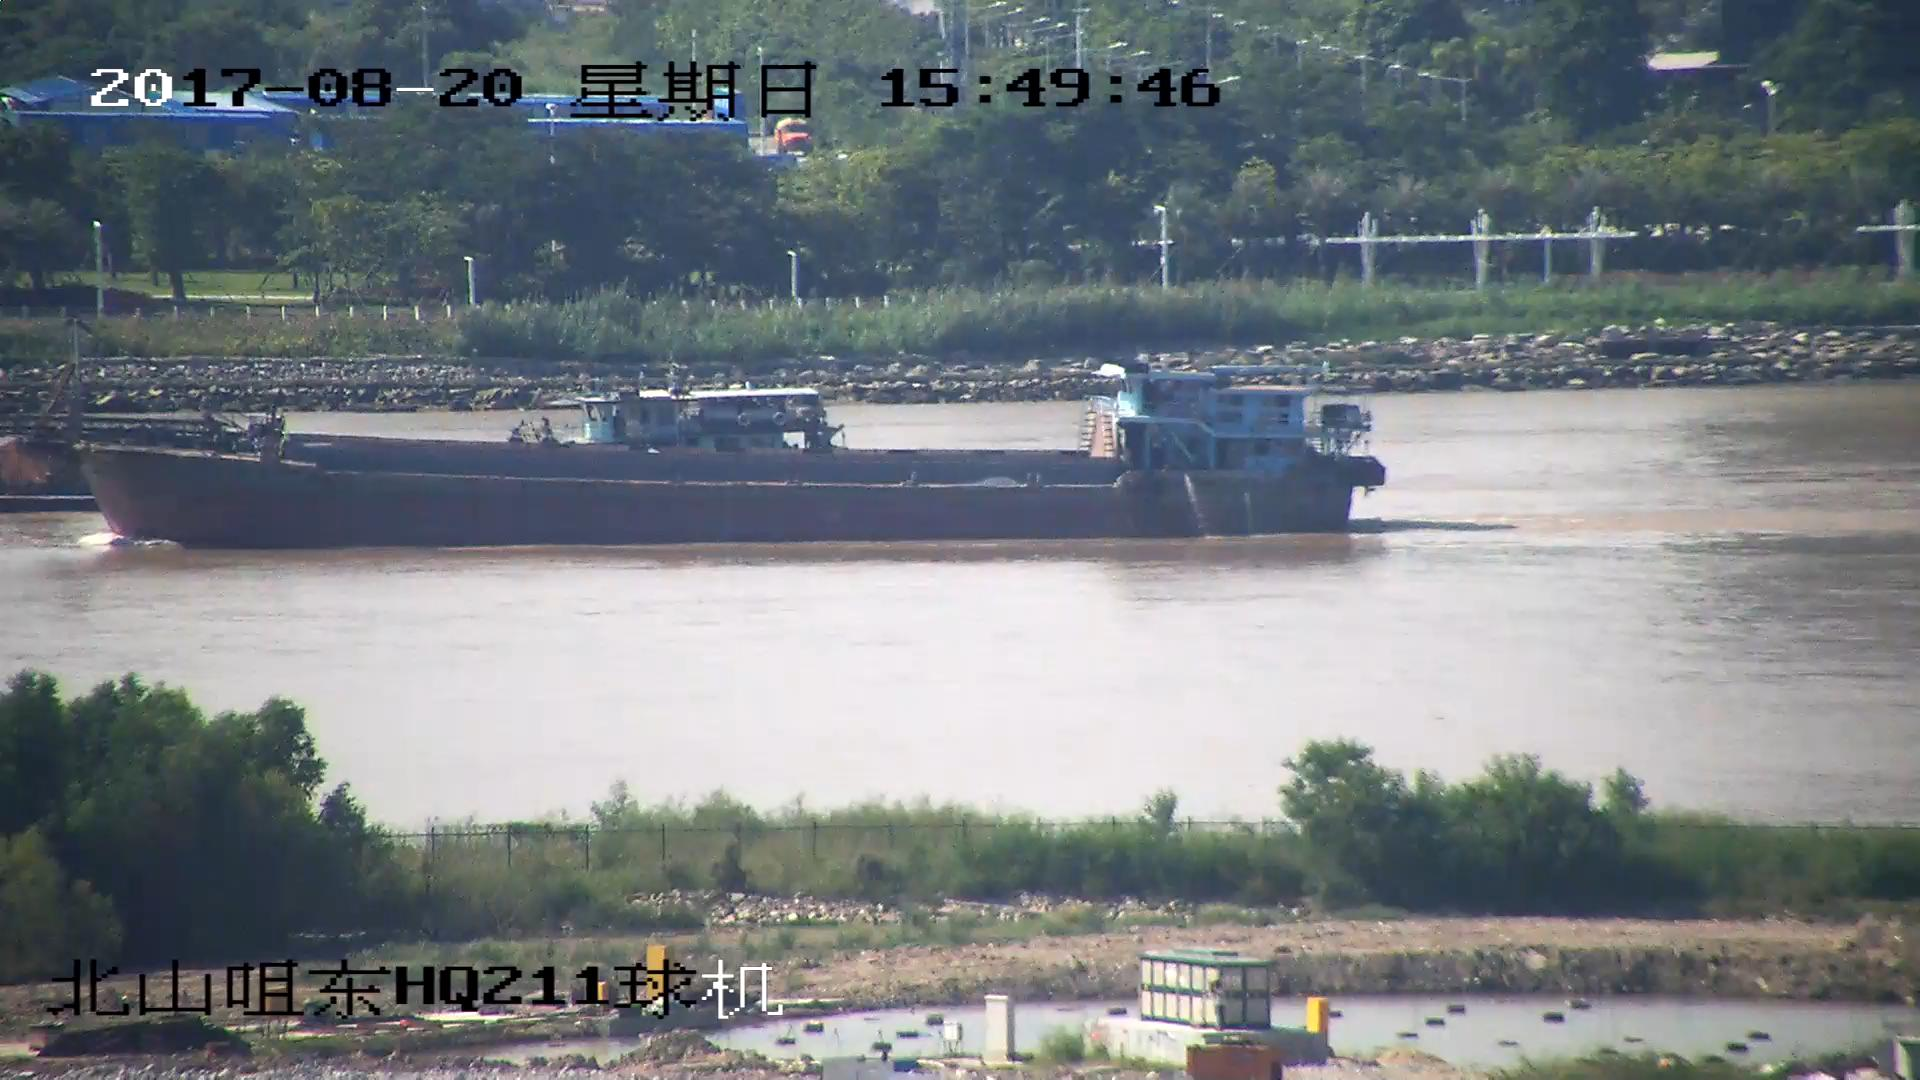bulk cargo carrier: (1, 358, 1374, 552)
ore carrier: (1, 386, 844, 514)
